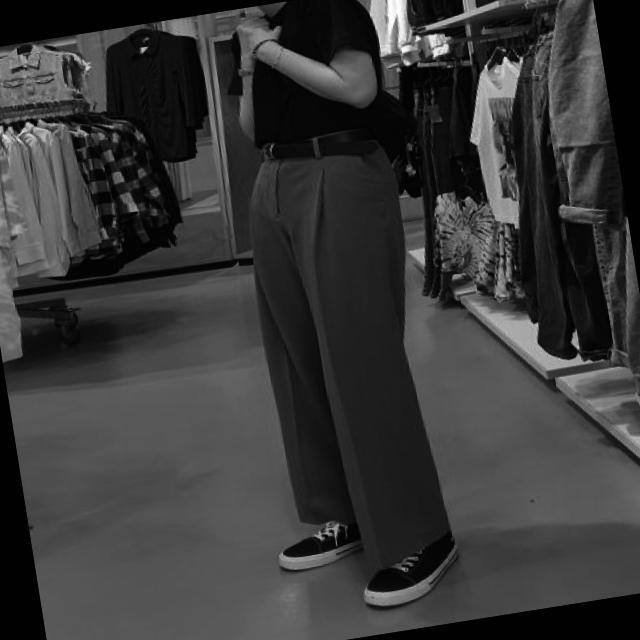shortsleeve: (228, 0, 391, 152)
slacks: (230, 133, 454, 584)
